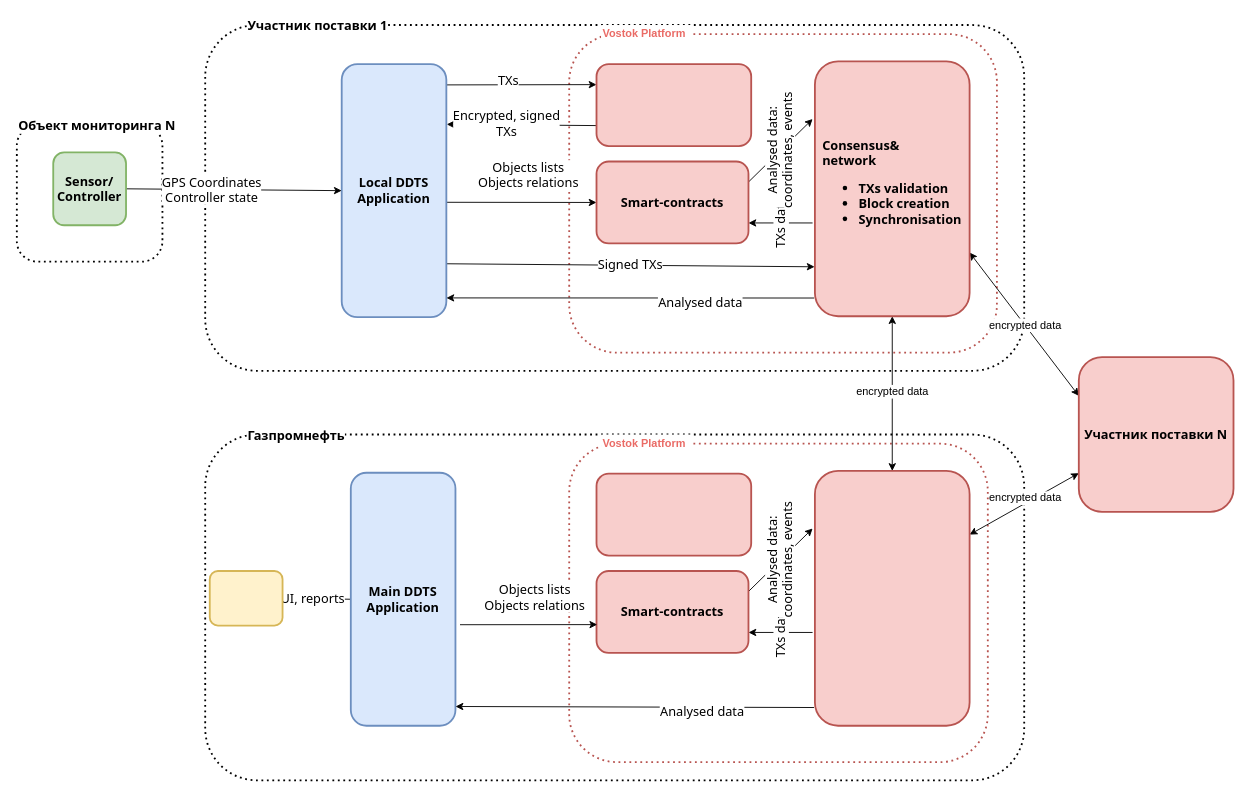
Some shapes in this 1249 by 796 pixel diagram are drawn without their labels. Here are the shapes that lost their labels. From the top down, the box of each, then its label:
(595, 63, 752, 147): Crypto provider key management TXs encrypt\decrypt TXs sign TXs verification
(595, 472, 752, 556): Crypto provider key management TXs sign TXs verification
(208, 570, 283, 626): User
(814, 470, 970, 726): Consensus& network TXs validation Block validation Synchronisation
